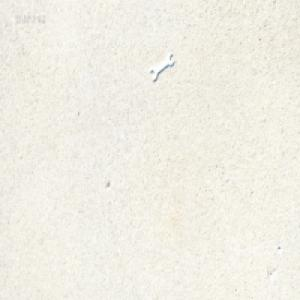Wrench: (149, 53, 173, 83)
